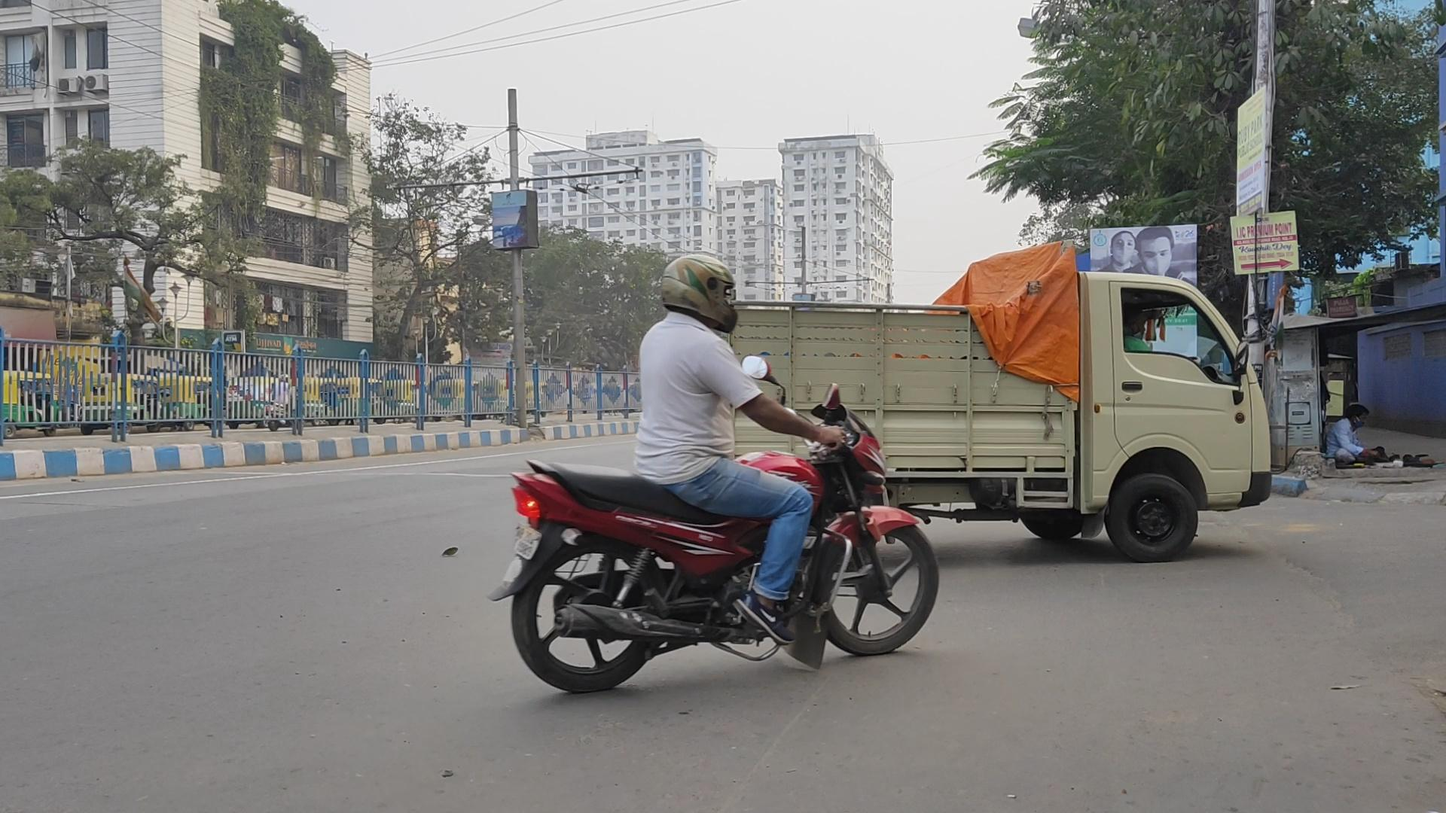bike: (489, 253, 939, 693)
van: (703, 239, 1285, 563)
